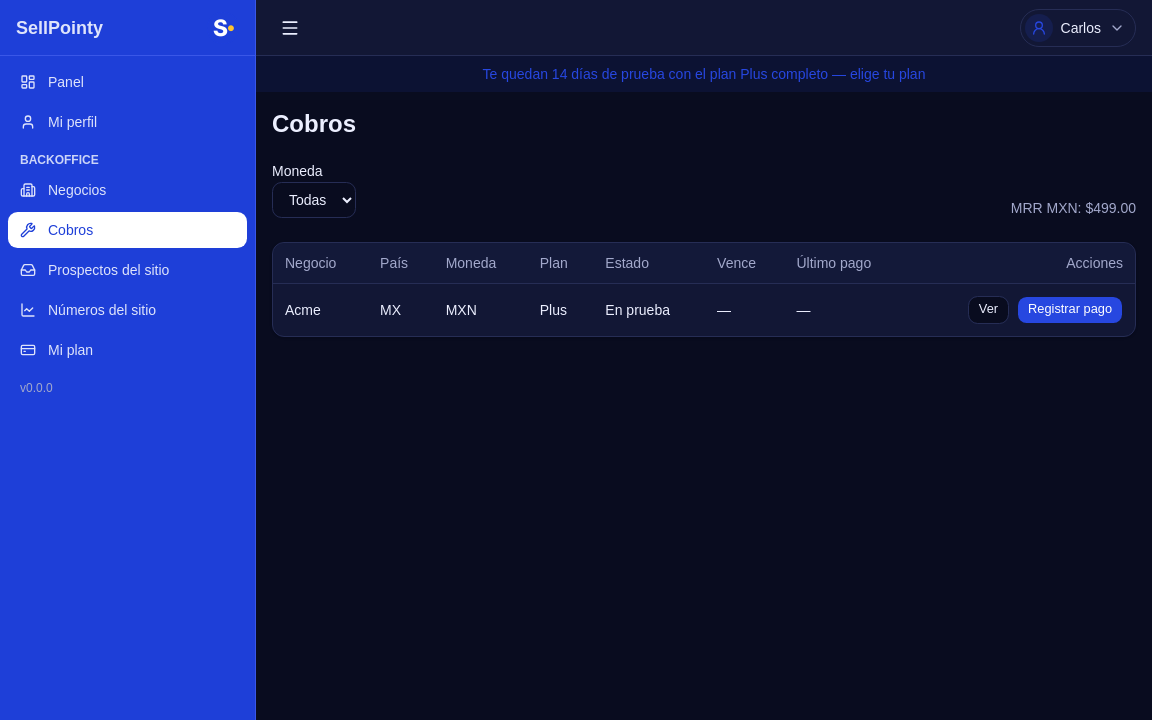
Backoffice /admin/billing (F7-WEB-10) › un monto mayor que el cargo deja el descuento en cero, no en negativo
Click the button "Registrar pago" at (1070, 310), box x1=1017 y1=296 x2=1123 y2=324
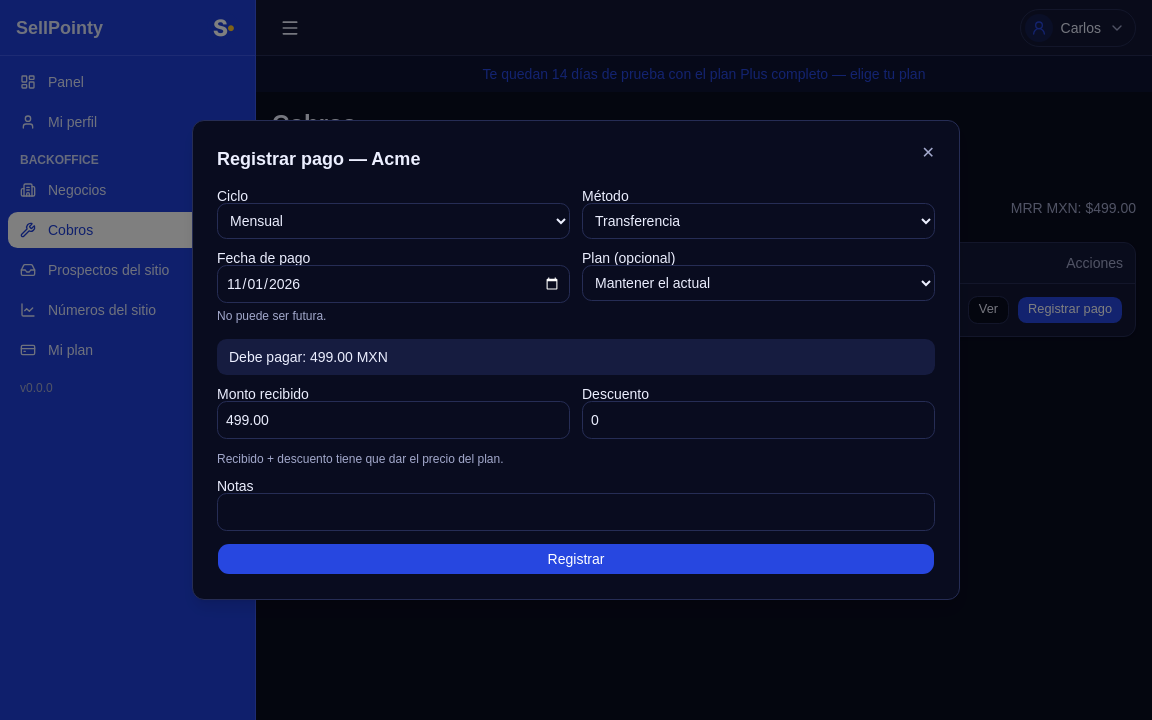
Replace the text in the field labelled "Monto recibido" with "600" at (394, 420), box x1=217 y1=401 x2=570 y2=439
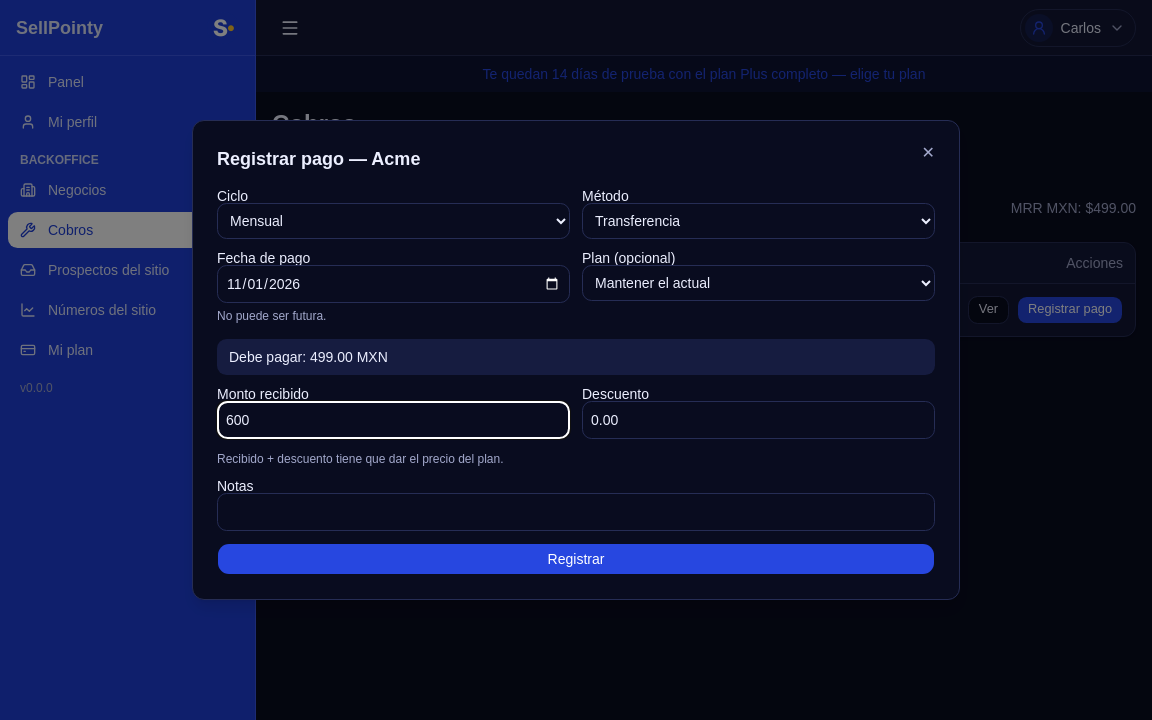
Check: the field labelled "Descuento" holds "0.00", box x1=582 y1=401 x2=935 y2=439
